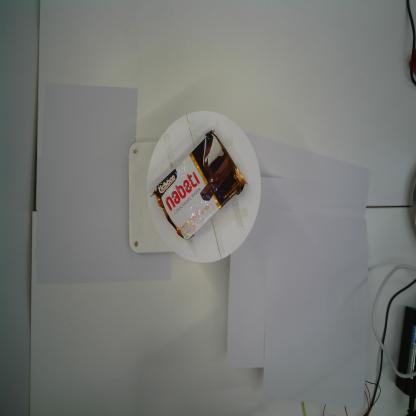Dessert: (148, 127, 249, 242)
